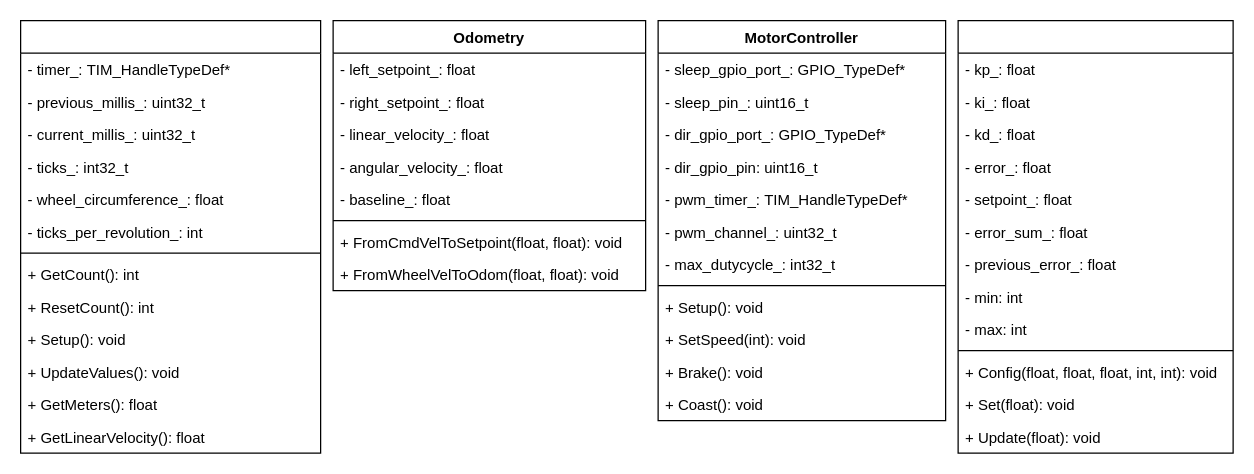
This 1254x474 diagram has some shape labels left out. The box of each missing label's shape, as (x1, y1, x2, y2) in pixels:
Encoder: (19, 19, 321, 453)
PID: (957, 19, 1233, 453)
